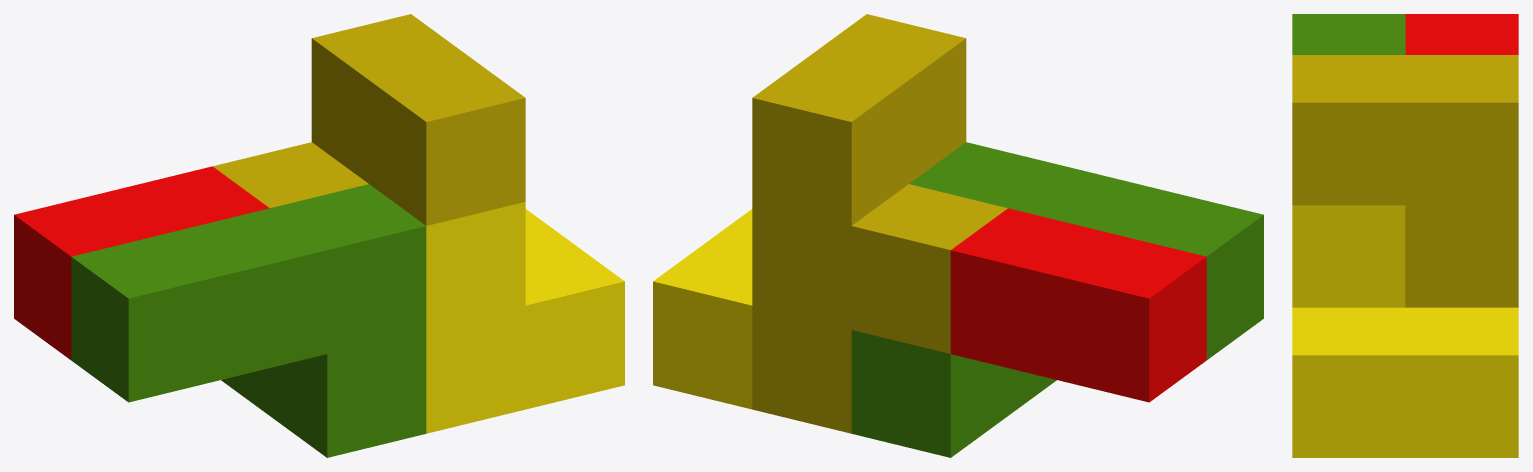
3 views of the same model, side by side, from view 1: azimuth 30°, elevation 25°; view 2: azimuth 150°, elevation 25°; view 3: azimuth 270°, elevation 25° (orthographic).
Visible parts, largest first — view 1: mergedBlocks(Clone); view 2: mergedBlocks(Clone); view 3: mergedBlocks(Clone).
Part boxes in pixels (x1,y1,x2,y2): mergedBlocks(Clone): (14,14,624,457); mergedBlocks(Clone): (653,14,1263,457); mergedBlocks(Clone): (1292,14,1518,457).
Size of the model in its own units: 5 by 3 by 2.
4 materials, 4 textured.
